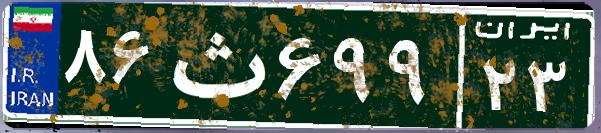2: (475, 38, 525, 113)
3: (525, 38, 570, 115)
6: (273, 28, 330, 110), (110, 28, 158, 105)
8: (57, 26, 110, 107)
9: (385, 28, 445, 110), (330, 28, 385, 110)
ث: (158, 15, 273, 115)
